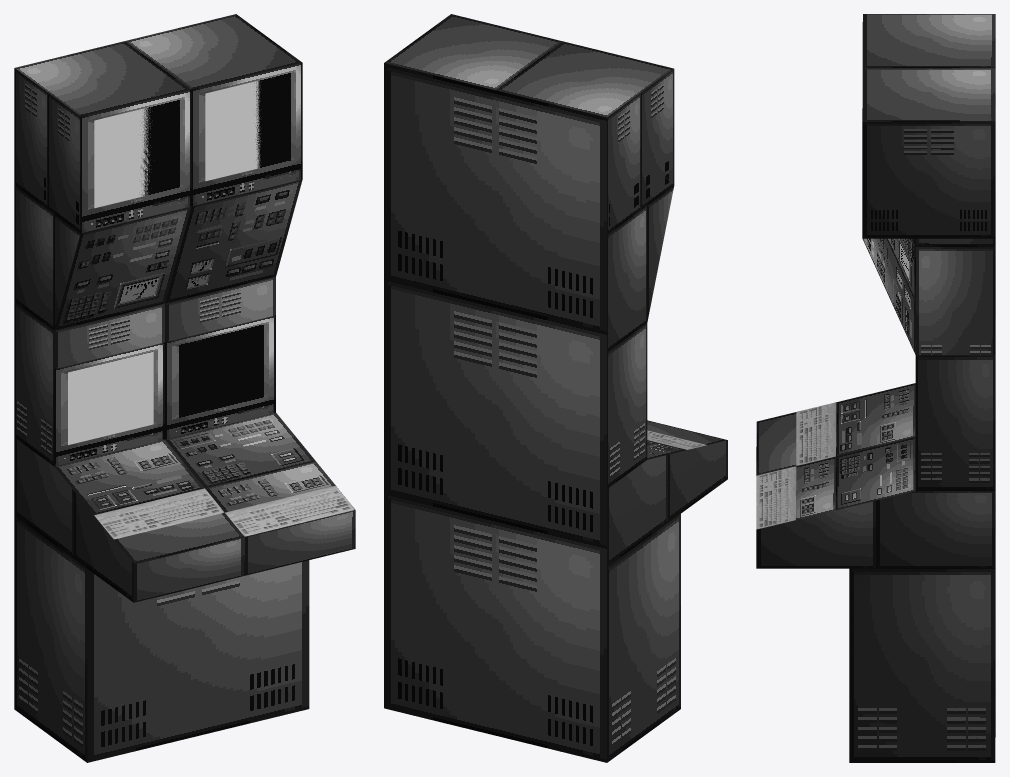
Rendered from console_17.glb.
3 renders of one model, left to right at view 1: azimuth 30°, elevation 25°; view 2: azimuth 150°, elevation 25°; view 3: azimuth 270°, elevation 25°, orthographic.
Parts seen in each view (by area): view 1: Object; view 2: Object; view 3: Object.
Boxes of the visible parts, x1,y1,x2,y2 form: Object: (14,14,355,762); Object: (384,14,727,762); Object: (756,14,995,762).
Size of the model in its own units: 1.1 by 3.05 by 1.03.
Materials: 26 (26 with a texture image).
